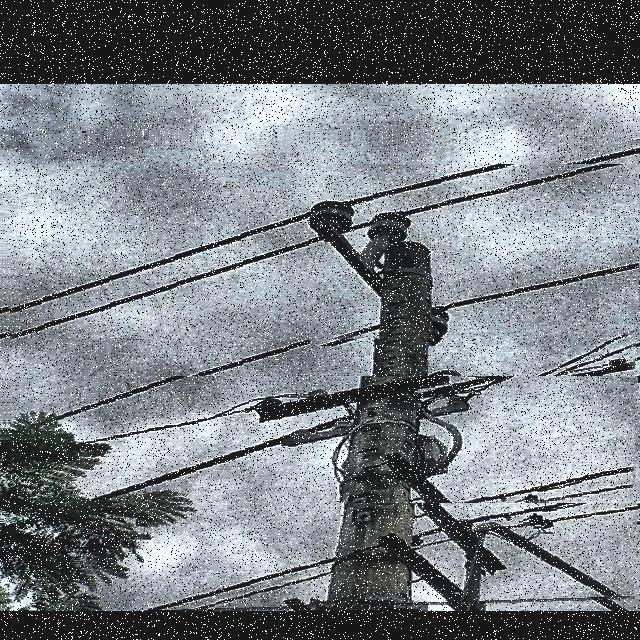crossarm: (305, 217, 443, 346), (254, 402, 446, 438)
pole: (348, 251, 428, 617)
wire: (3, 139, 640, 318), (0, 266, 640, 444), (8, 164, 639, 344), (6, 376, 559, 535), (136, 503, 608, 614)
